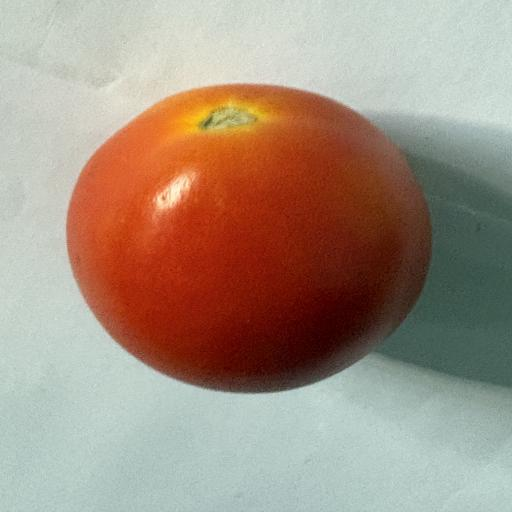ripe: (67, 84, 431, 392)
